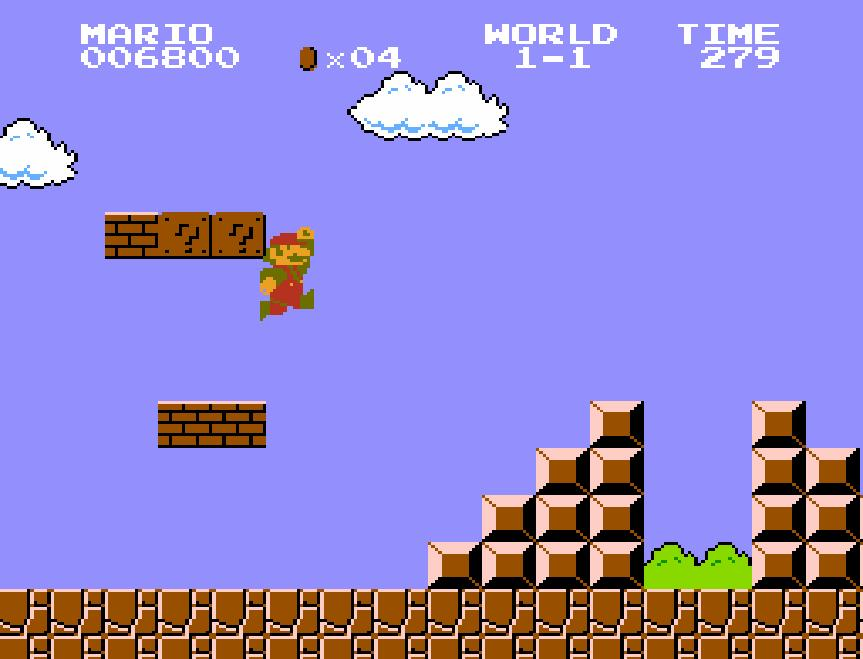big_mario: (254, 224, 312, 322)
